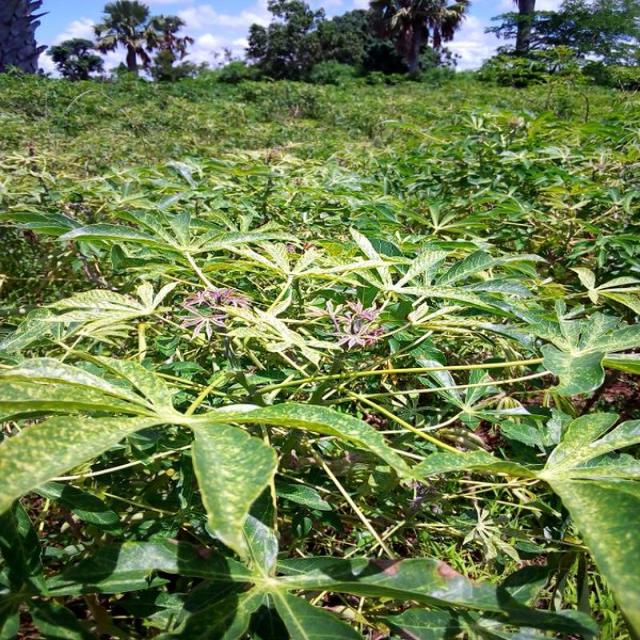cassava leaf: (190, 418, 280, 562)
